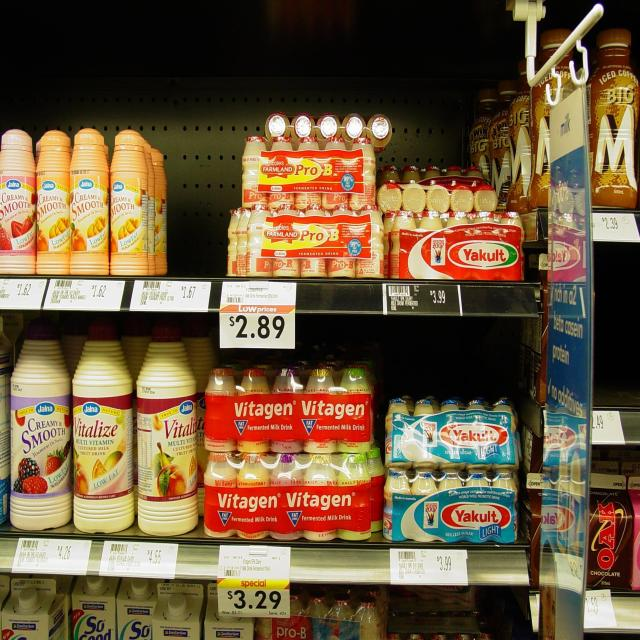empty_space: (167, 95, 225, 262), (601, 263, 640, 403)
